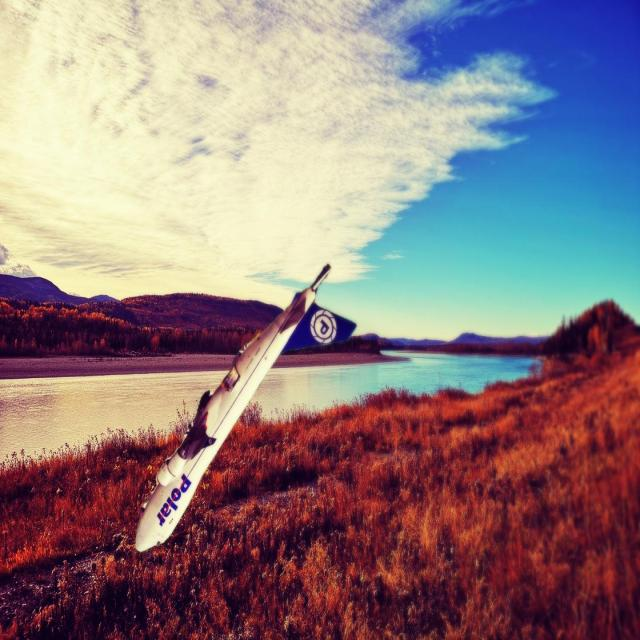airplane: (134, 262, 356, 553)
